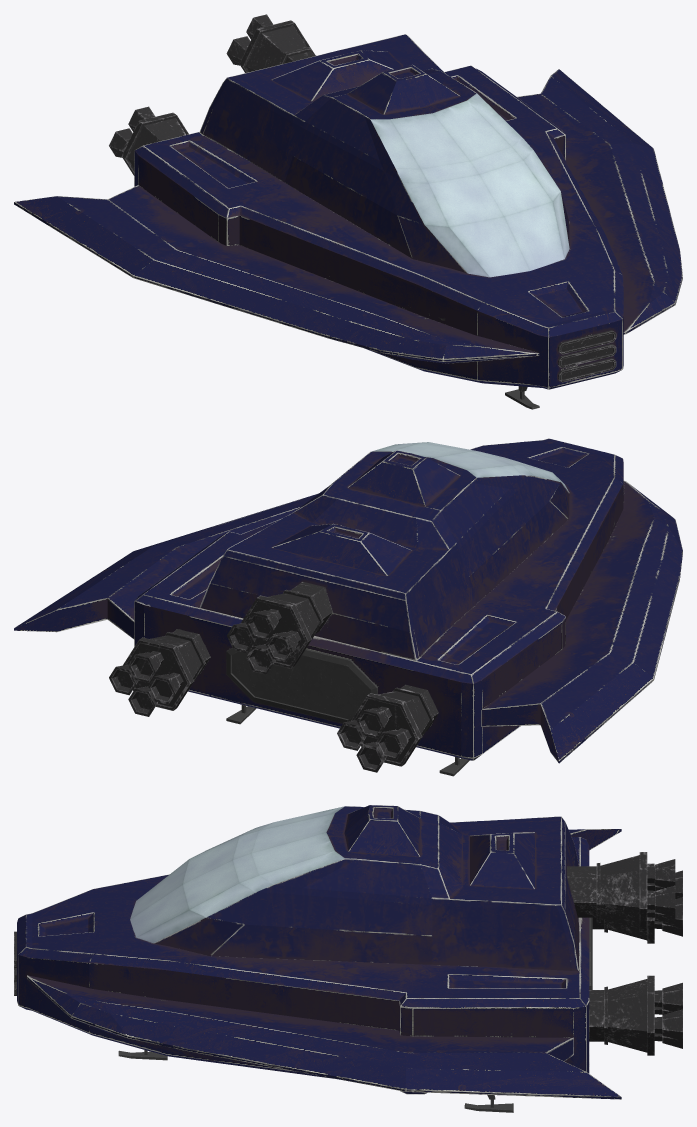
File: Spaceship.fbx
3 renders of one model, top to bottom at view 1: azimuth 30°, elevation 25°; view 2: azimuth 150°, elevation 25°; view 3: azimuth 270°, elevation 25°, orthographic.
Visible parts, largest first — view 1: Cockpit, Wing, Ceiling.004, Body.001, Thrusters.002, Grill; view 2: Cockpit, Wing, Ceiling.004, Thrusters.002, Body.001, Backdoor, Legs; view 3: Cockpit, Wing, Ceiling.004, Body.001, Thrusters.002, Legs.
Boxes of the visible parts, x1,y1,x2,y2 form: Cockpit: (199, 34, 569, 277); Wing: (14, 69, 682, 363); Ceiling.004: (134, 65, 623, 337); Body.001: (134, 135, 623, 389); Thrusters.002: (109, 14, 315, 175); Grill: (558, 330, 616, 382); Cockpit: (199, 442, 569, 660); Wing: (14, 480, 682, 763); Ceiling.004: (134, 438, 623, 683); Thrusters.002: (109, 581, 438, 772); Body.001: (134, 479, 623, 760); Backdoor: (226, 647, 377, 723); Legs: (226, 704, 469, 776); Cockpit: (130, 805, 578, 970); Wing: (27, 829, 621, 1099); Ceiling.004: (17, 837, 589, 1007); Body.001: (17, 951, 589, 1094); Thrusters.002: (567, 852, 682, 1055); Legs: (118, 1050, 513, 1112).
Size of the model in its own units: 7375 by 2974 by 6995.
Materials: 16 (15 with a texture image).
